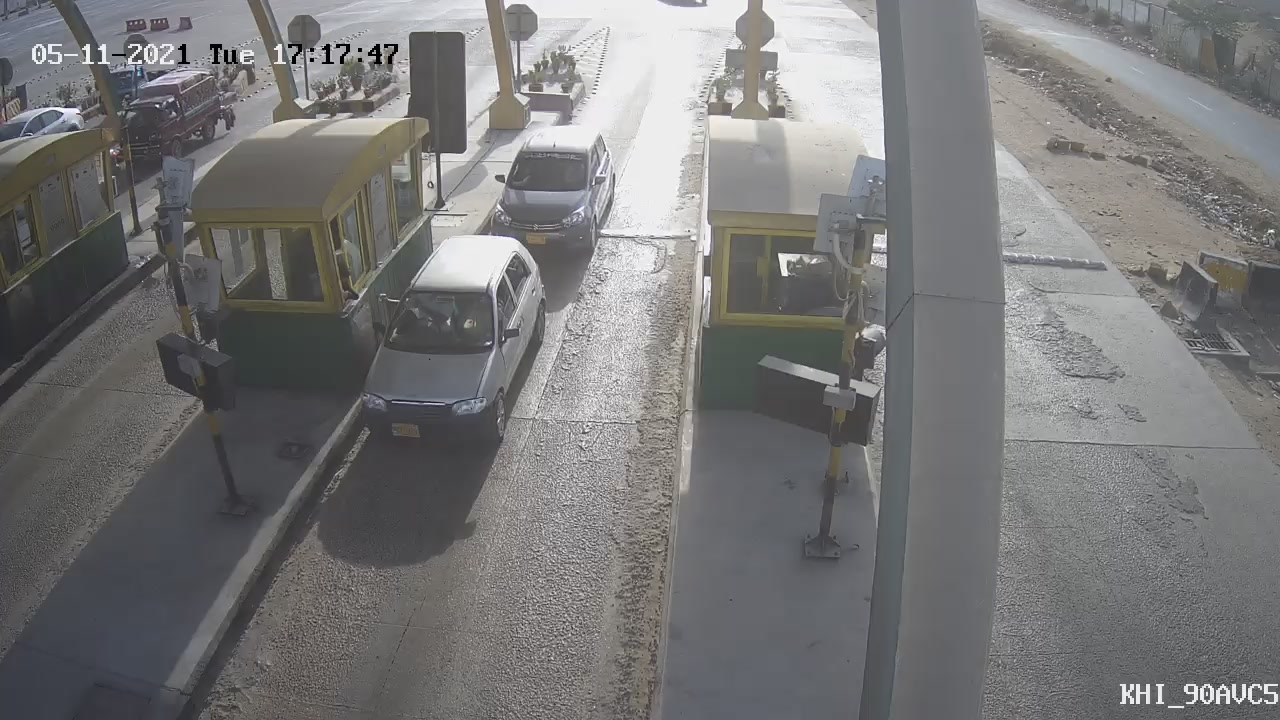F1: (335, 221, 565, 472), (476, 114, 630, 281)
